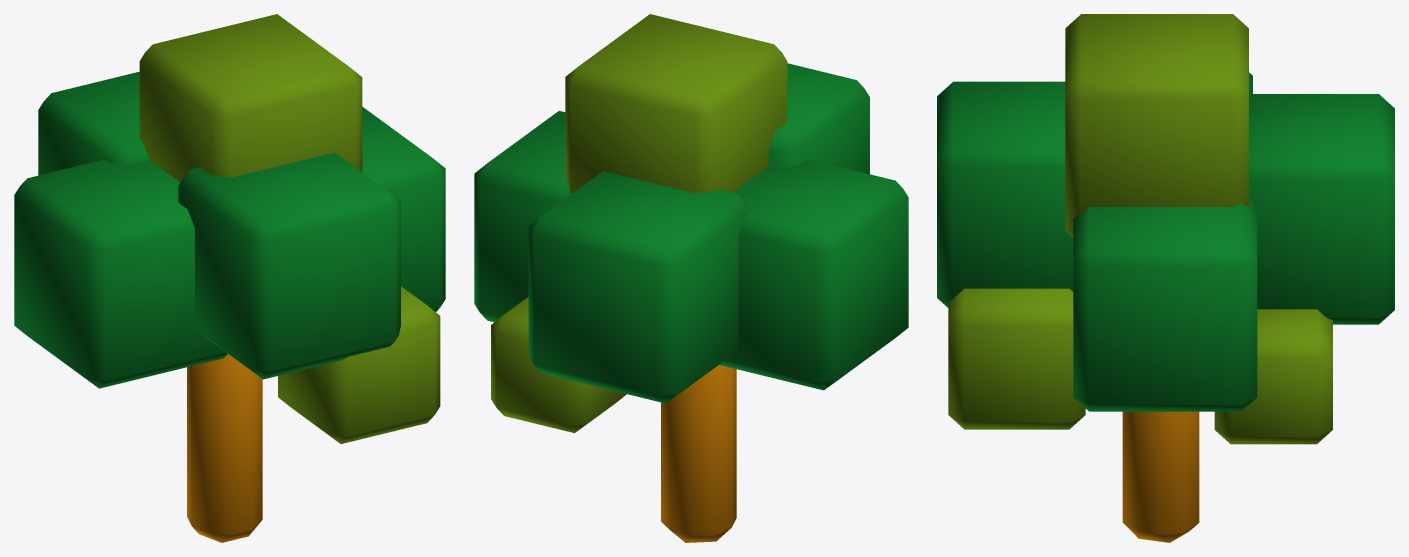
Rendered from tree_2.fbx.
3 renders of one model, left to right at view 1: azimuth 30°, elevation 25°; view 2: azimuth 150°, elevation 25°; view 3: azimuth 270°, elevation 25°, orthographic. The views are drawn at different scales.
Visible parts, largest first — view 1: 柱体; view 2: 柱体; view 3: 柱体.
Part boxes in pixels (x1,y1,x2,y2): 柱体: [14, 14, 445, 542]; 柱体: [474, 14, 908, 542]; 柱体: [937, 14, 1394, 542].
Bounding box in the file's own units: 928 × 1156 × 963.
Materials: 1 (1 with a texture image).
